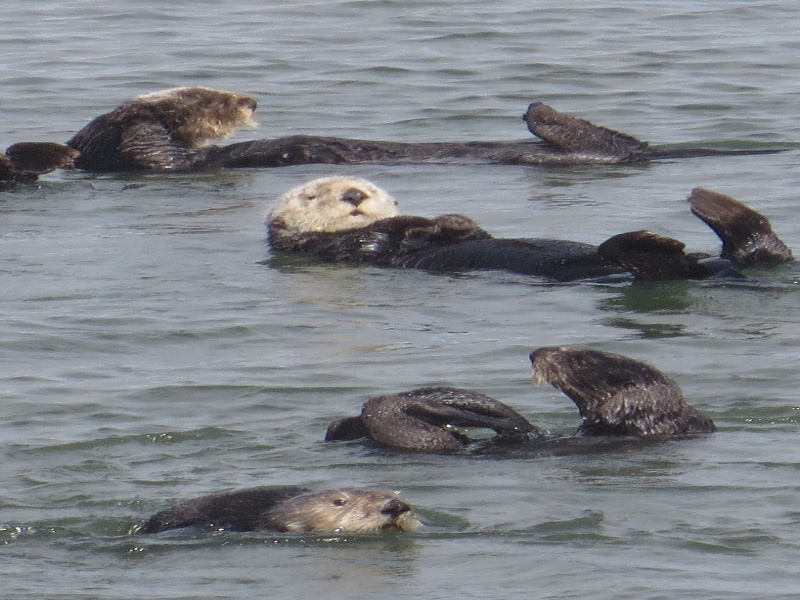minkish: (264, 176, 794, 315), (79, 86, 690, 171), (320, 347, 723, 451), (154, 477, 451, 559)
